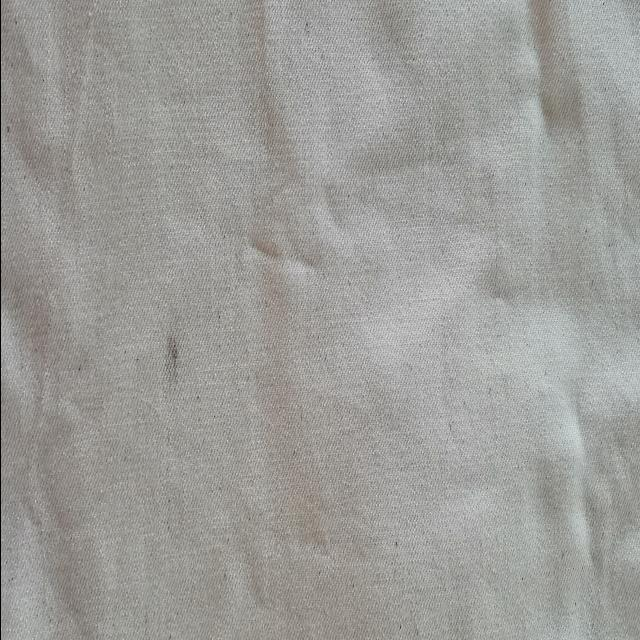taaaches: (140, 316, 197, 422)
